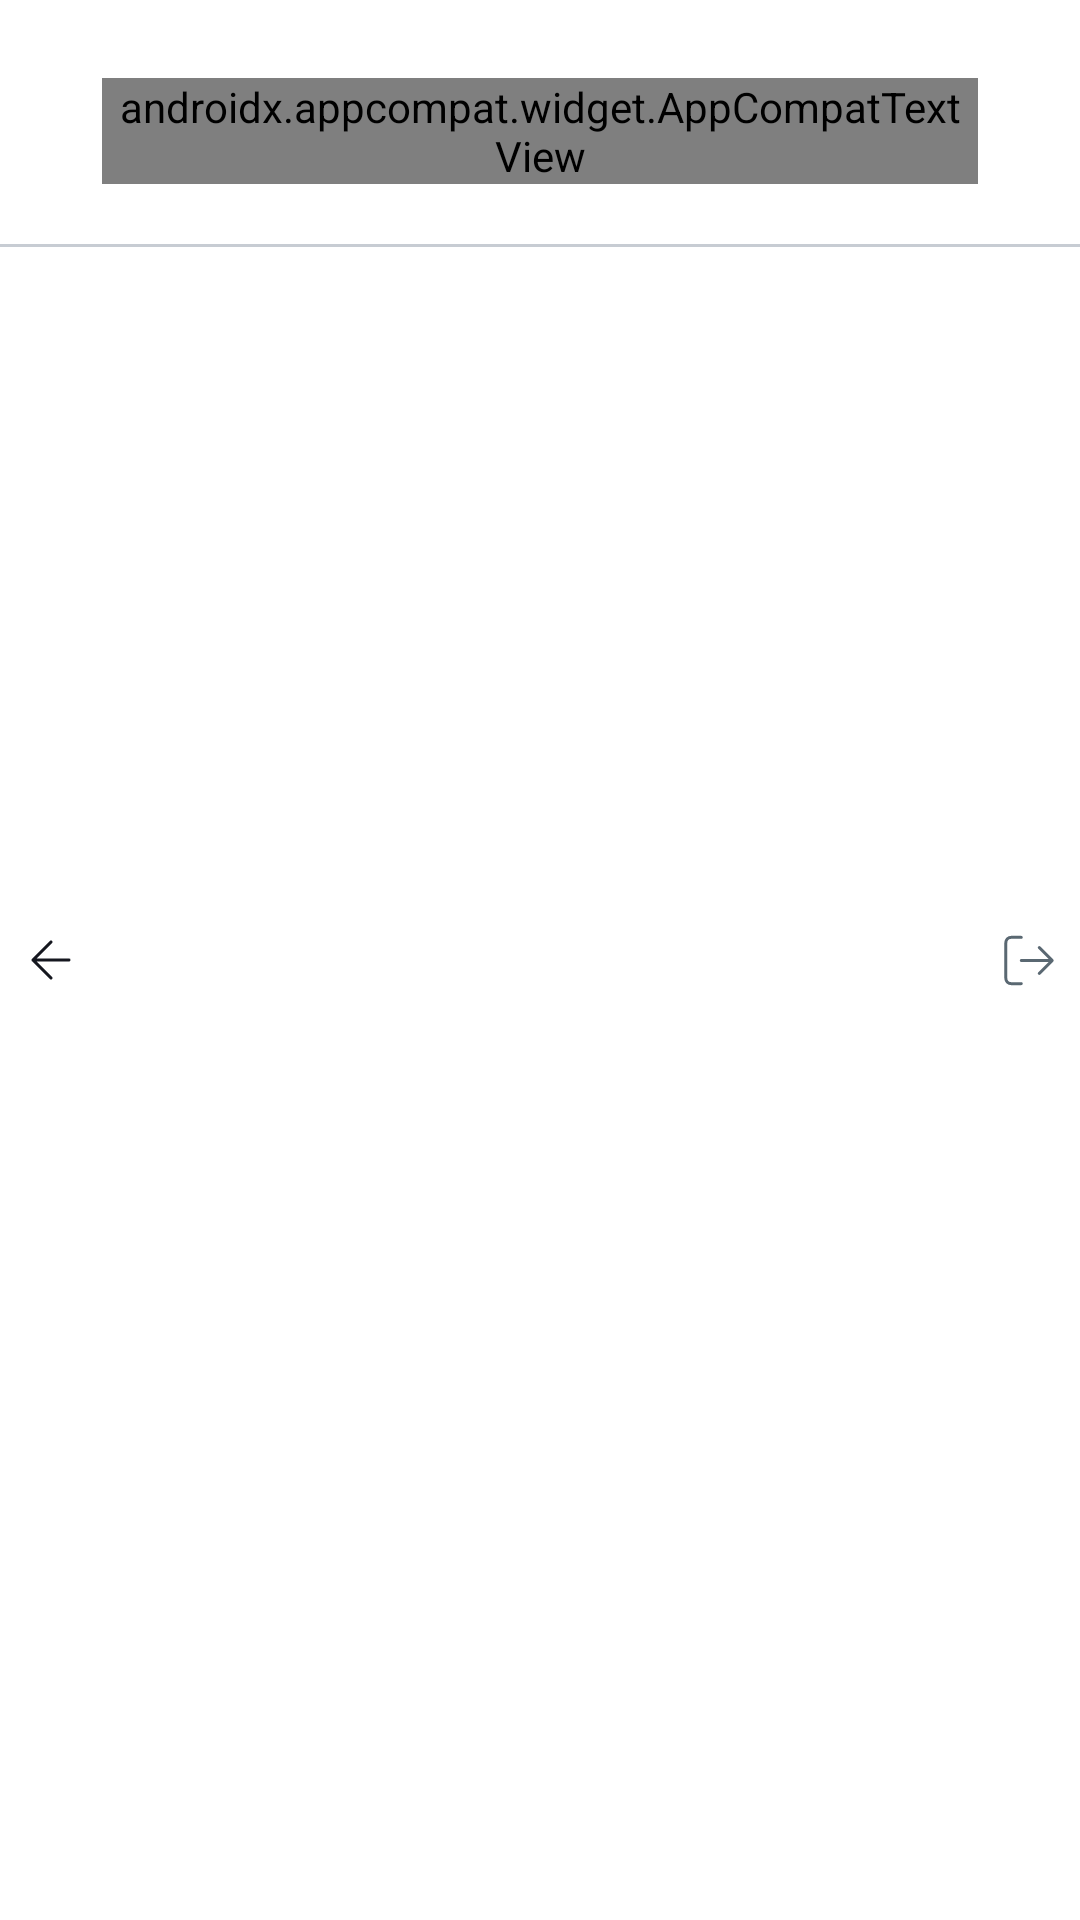

Icons on this 1080px×1920px Android screen, each with the point to tap as [x,y]:
arrow back: [51,960]
